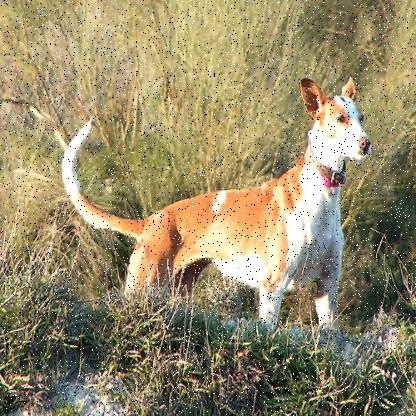dog: (49, 74, 376, 334)
